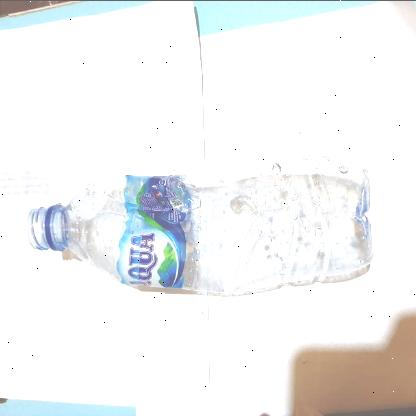Plastic Bottle: (26, 150, 374, 296)
